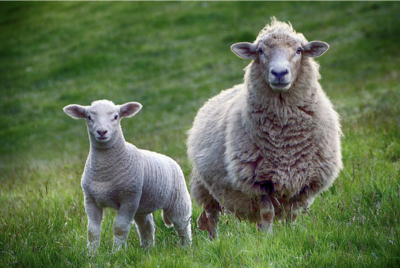koyun: (194, 23, 342, 238), (61, 100, 190, 257)
